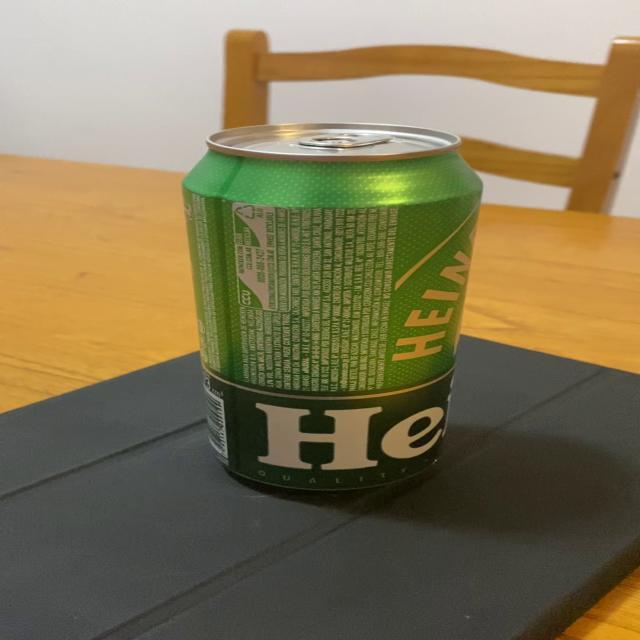can: (181, 122, 485, 494)
